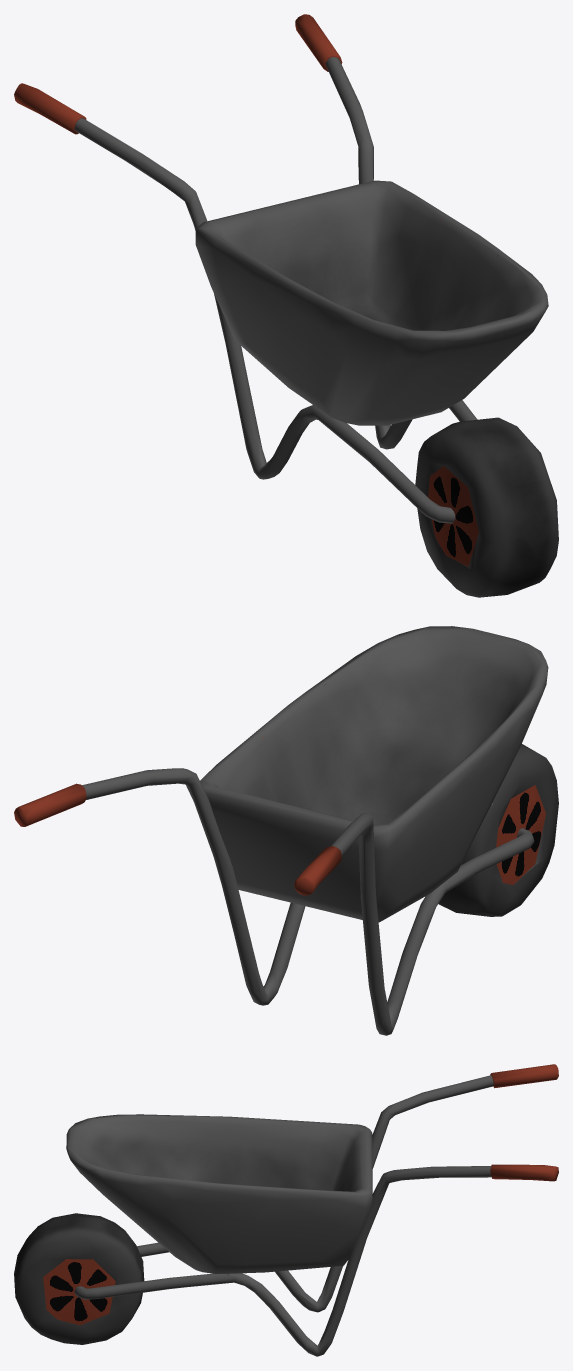
File: lgu_wheelbarrow.fbx
The picture shows the model from 3 angles, top to bottom: view 1: azimuth 30°, elevation 25°; view 2: azimuth 150°, elevation 25°; view 3: azimuth 270°, elevation 25°; orthographic projection. The views are drawn at different scales.
Parts seen in each view (by area): view 1: lgu_wheelbarrow, lgu_wheelbarrow_wheel; view 2: lgu_wheelbarrow, lgu_wheelbarrow_wheel; view 3: lgu_wheelbarrow, lgu_wheelbarrow_wheel.
Boxes of the visible parts, left/top/right/bottom form: lgu_wheelbarrow: left=14, top=14, right=548, bottom=523; lgu_wheelbarrow_wheel: left=415, top=417, right=558, bottom=597; lgu_wheelbarrow: left=14, top=626, right=548, bottom=1035; lgu_wheelbarrow_wheel: left=438, top=744, right=558, bottom=916; lgu_wheelbarrow: left=66, top=1064, right=558, bottom=1356; lgu_wheelbarrow_wheel: left=14, top=1213, right=144, bottom=1344.
Bounding box in the file's own units: 699 × 671 × 1490.
1 material, 1 textured.
